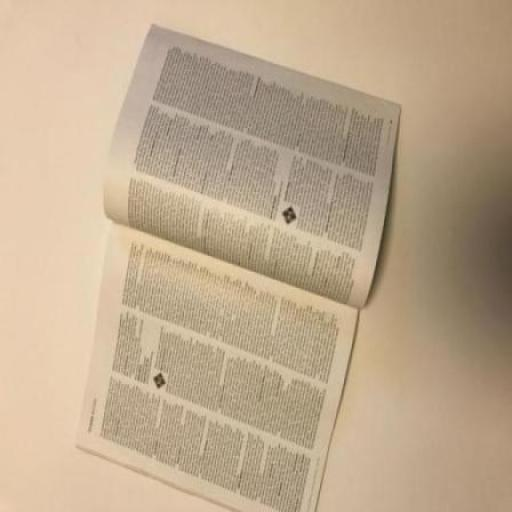paper: (62, 15, 405, 489)
